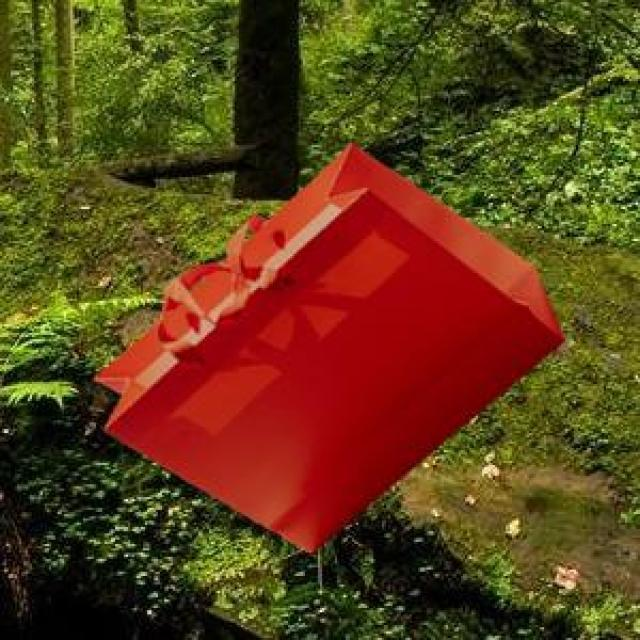paper: (90, 141, 559, 548)
